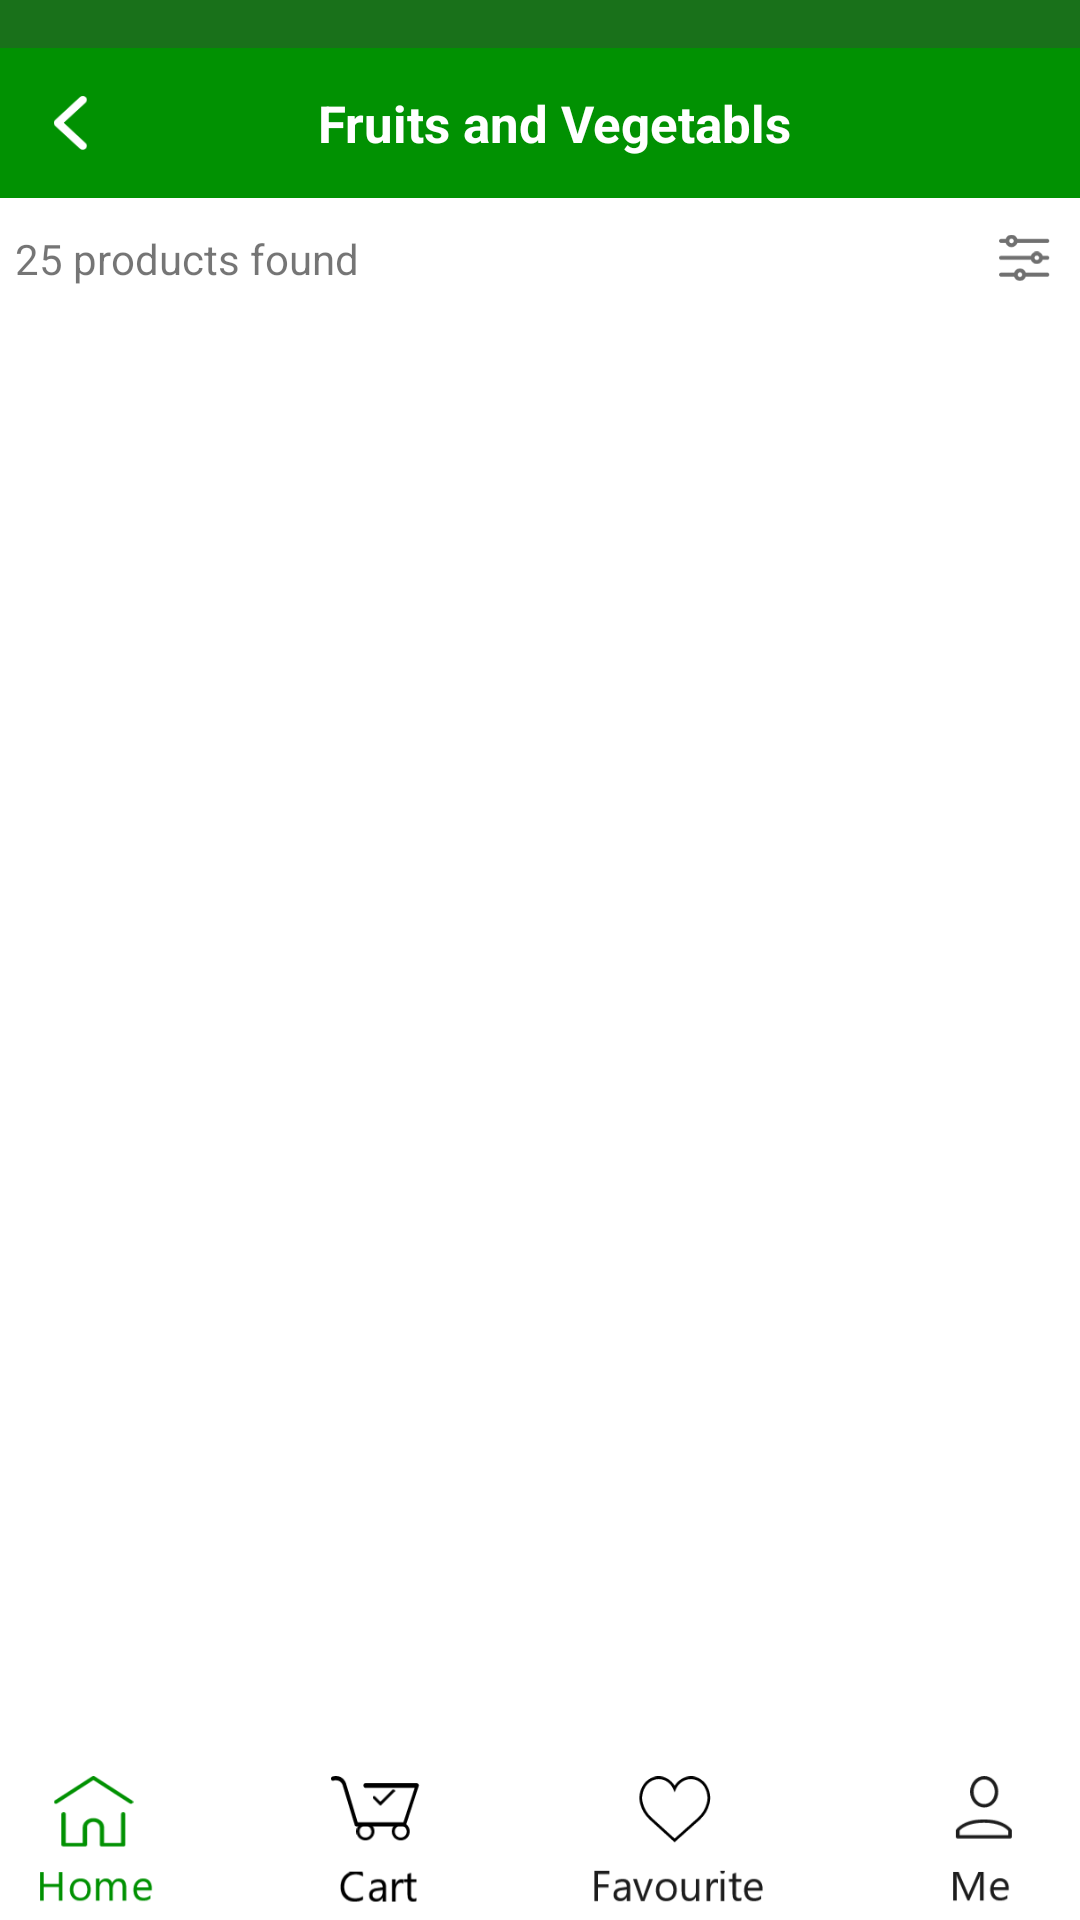

Where to tap for icons on this 1080x1920 app screen, as point (x, y):
arrow: point (70, 123)
filter: point (1024, 258)
